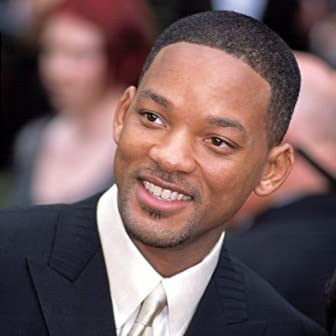male: (1, 10, 332, 336)
